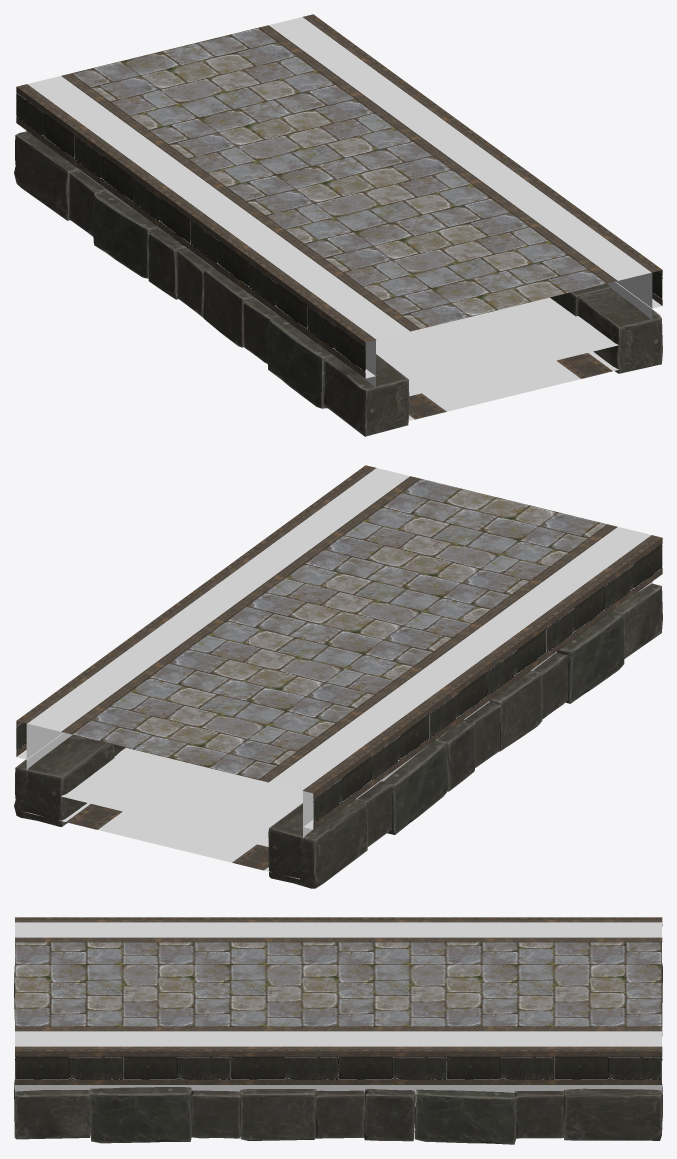
The picture shows the model from 3 angles, top to bottom: view 1: azimuth 30°, elevation 25°; view 2: azimuth 150°, elevation 25°; view 3: azimuth 270°, elevation 25°; orthographic projection. The views are drawn at different scales.
Parts seen in each view (by area): view 1: SM_Dowdun_Bridge_L_02_LOD0; view 2: SM_Dowdun_Bridge_L_02_LOD0; view 3: SM_Dowdun_Bridge_L_02_LOD0.
Part boxes in pixels (x1,y1,x2,y2): SM_Dowdun_Bridge_L_02_LOD0: [14, 14, 662, 436]; SM_Dowdun_Bridge_L_02_LOD0: [14, 465, 662, 888]; SM_Dowdun_Bridge_L_02_LOD0: [14, 917, 662, 1144].
Size of the model in its own units: 8.88 by 2.77 by 17.55.
4 materials, 3 textured.
